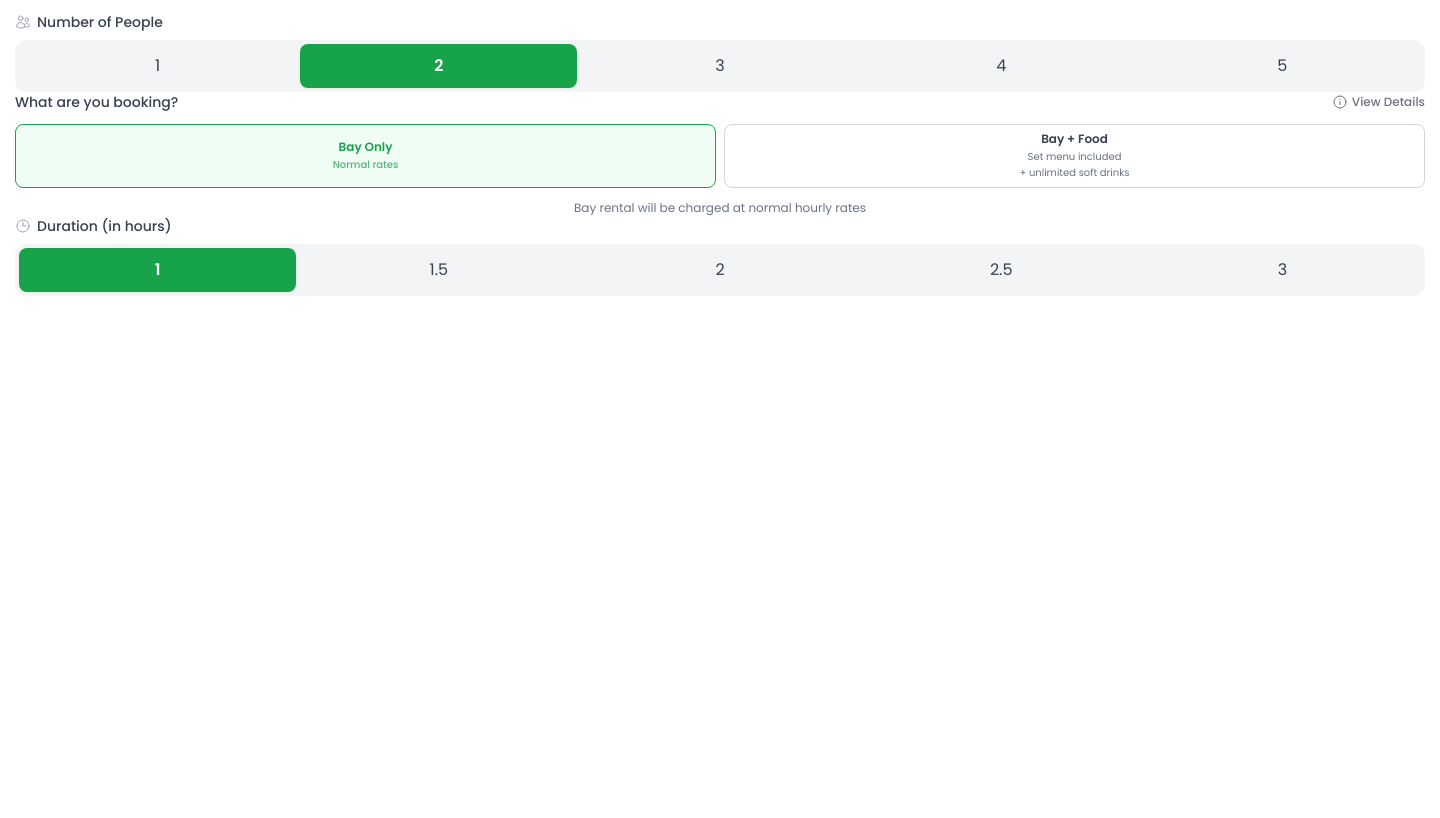
Test: the card figures come from the live booking, not the static data › the headline is the total, qualified by the split across the selected party
Click the button "Bay + Food Set menu included + unlimited soft drinks" at (1074, 156), box [724,124,1425,188]
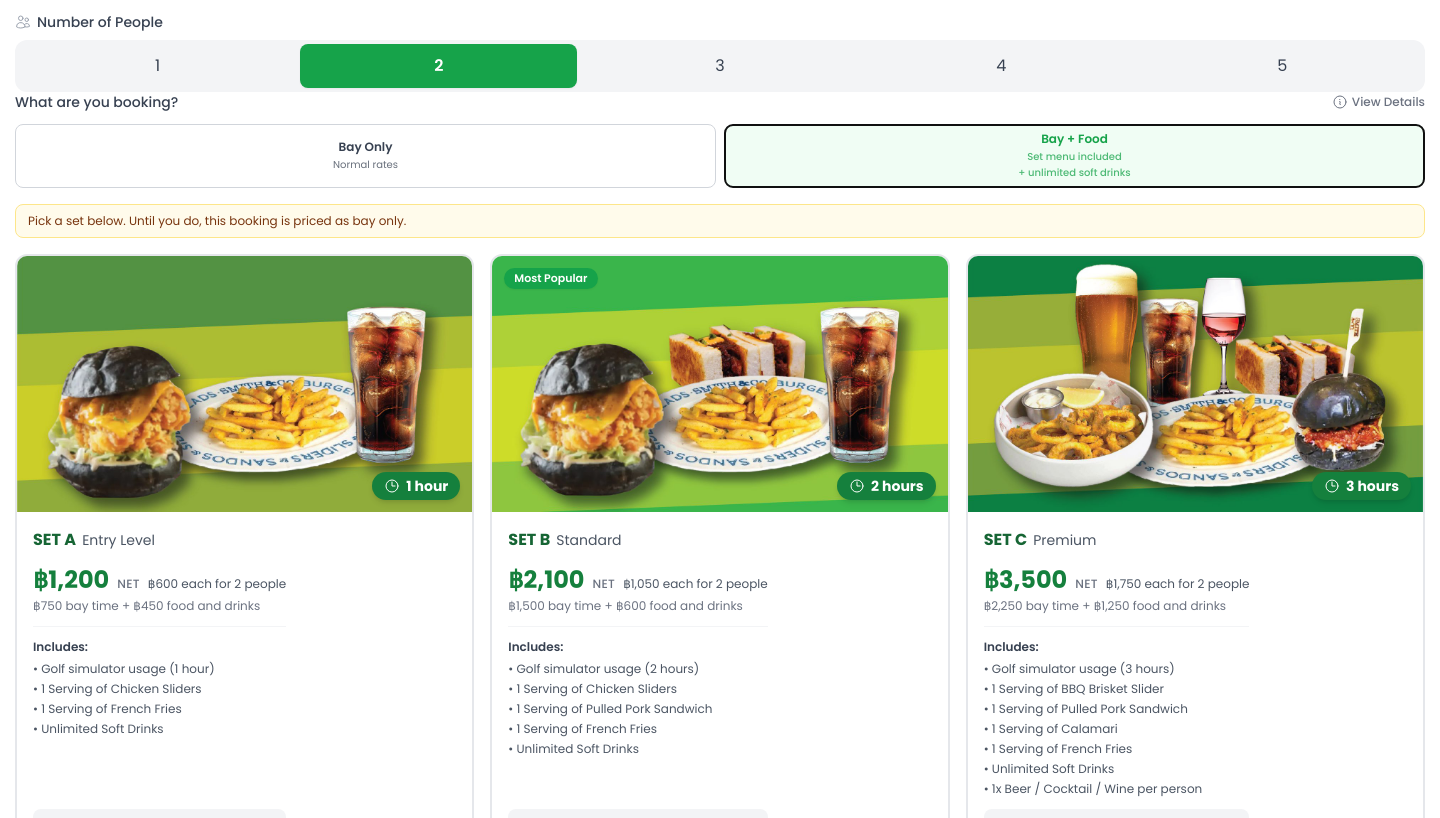
Now the text "฿2,100" is shown, box [508,564,584,596]
Now the text "฿1,050 each for 2 people" is shown, box [623,576,768,592]
